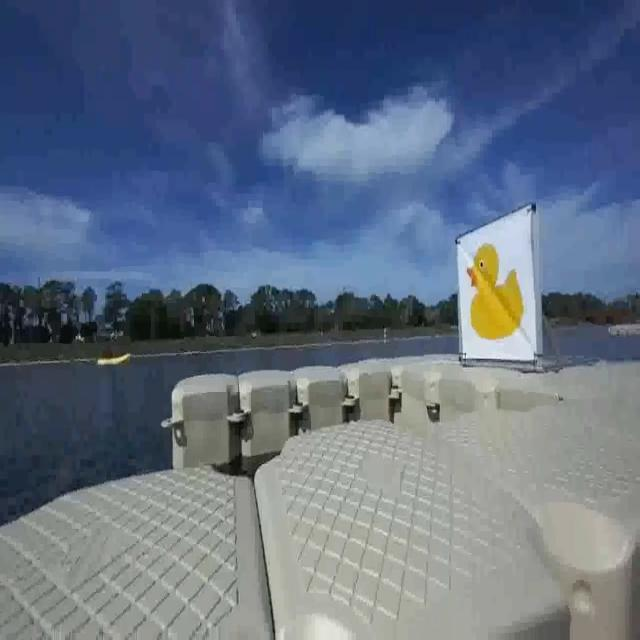yellow-duck: (466, 238, 525, 342)
